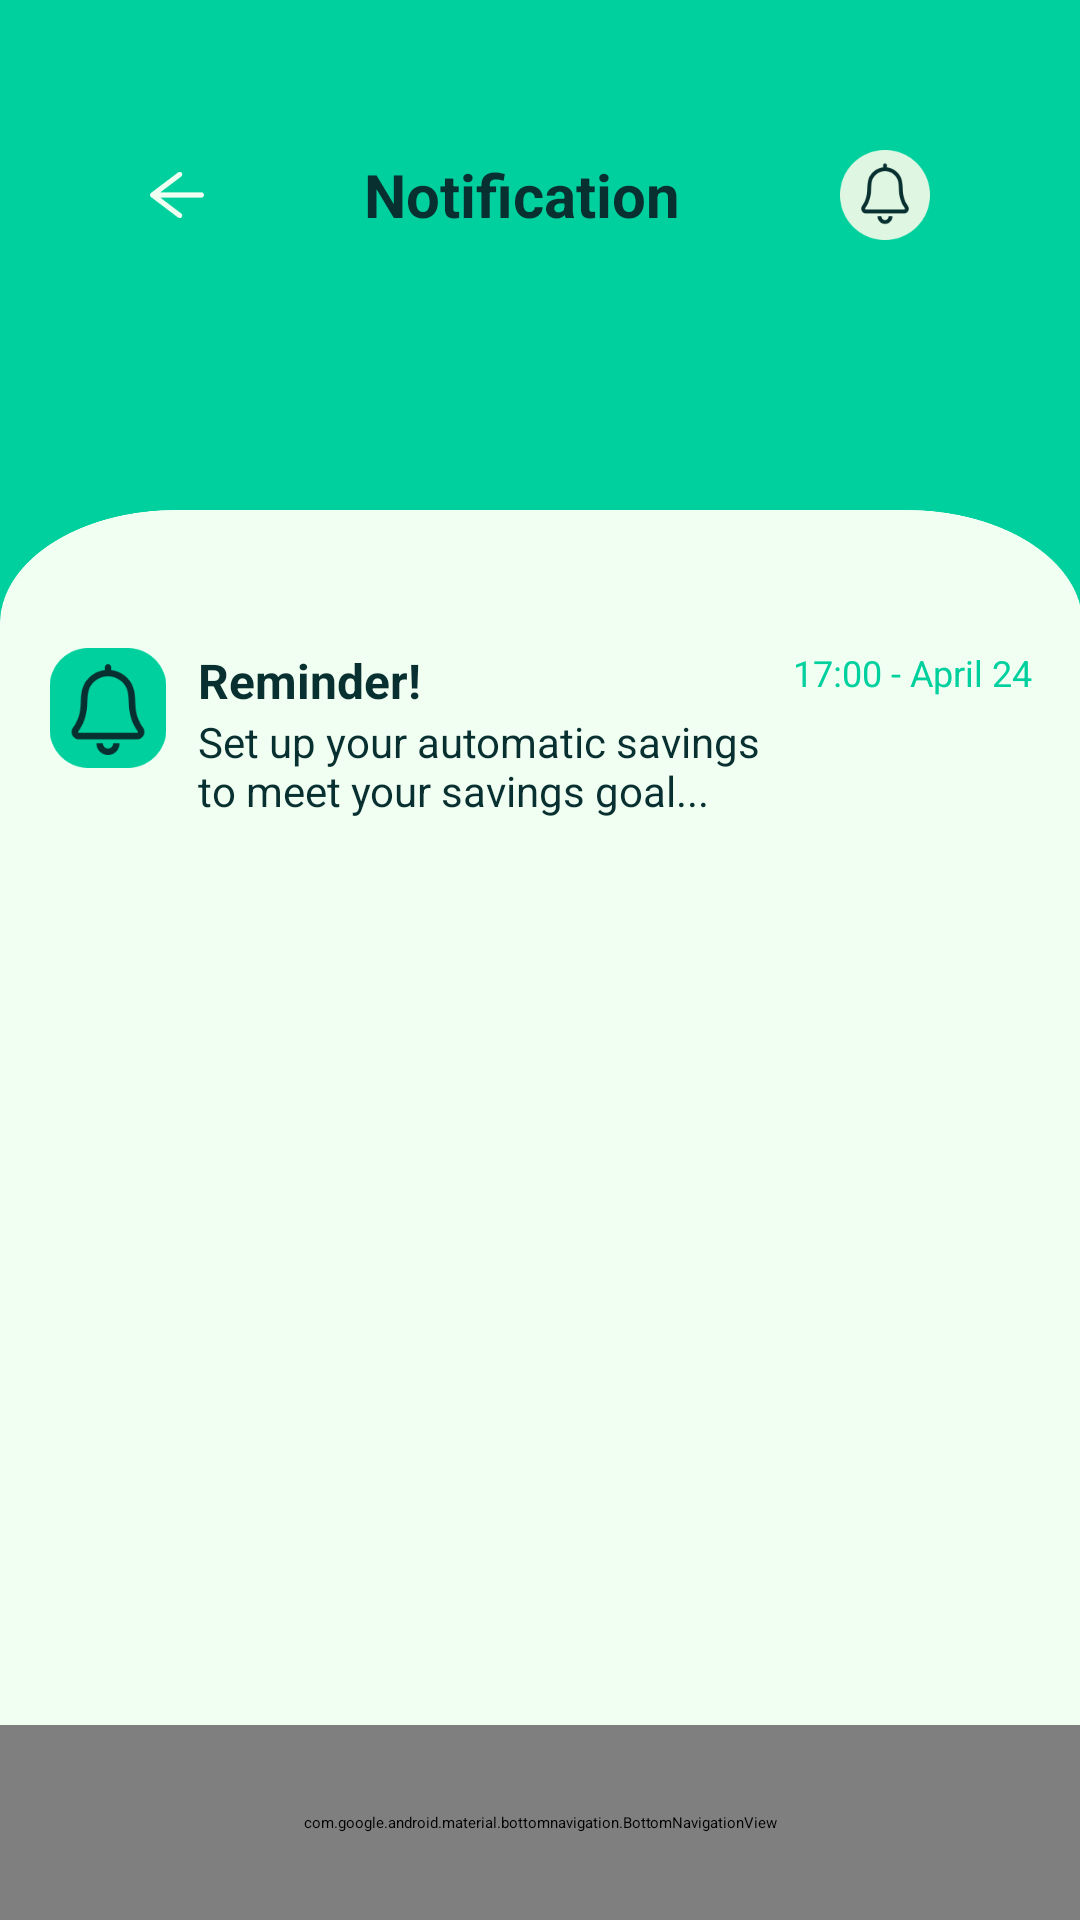

Screen size 1080*1920. Icon name, then its box in pixels as (x1, y1, x2, y2):
Back Icon: (150, 172, 204, 218)
